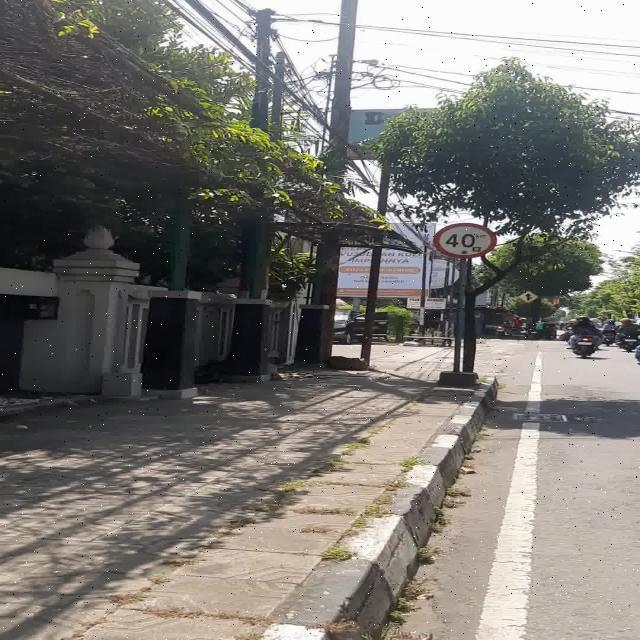Kecepatan Maks. 40 km: (432, 222, 498, 259)
